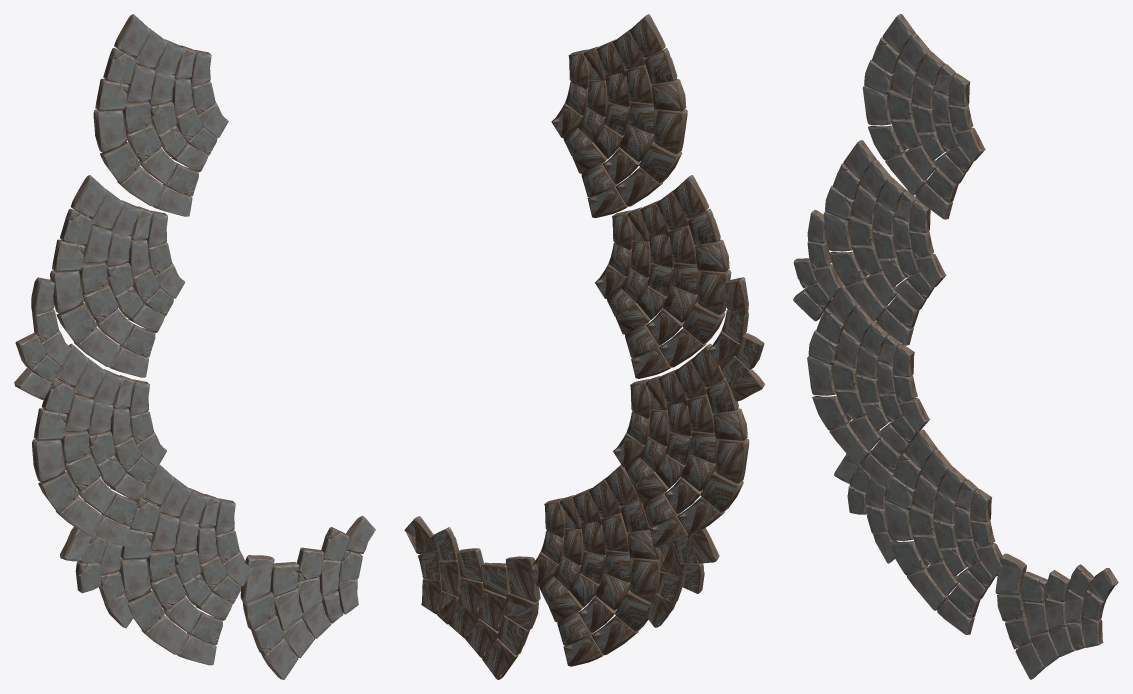
Rendered from Vd_Dis_Merged_Fans.fbx.
3 views of the same model, side by side, from view 1: azimuth 30°, elevation 25°; view 2: azimuth 150°, elevation 25°; view 3: azimuth 330°, elevation 25° (orthographic). The views are drawn at different scales.
Parts seen in each view (by area): view 1: Vd_Dis_Merged_Fans; view 2: Vd_Dis_Merged_Fans; view 3: Vd_Dis_Merged_Fans.
Boxes of the visible parts, x1,y1,x2,y2 form: Vd_Dis_Merged_Fans: [14, 14, 375, 679]; Vd_Dis_Merged_Fans: [404, 14, 764, 679]; Vd_Dis_Merged_Fans: [793, 14, 1118, 679].
Bounding box in the file's own units: 1513 × 2826 × 43.53.
